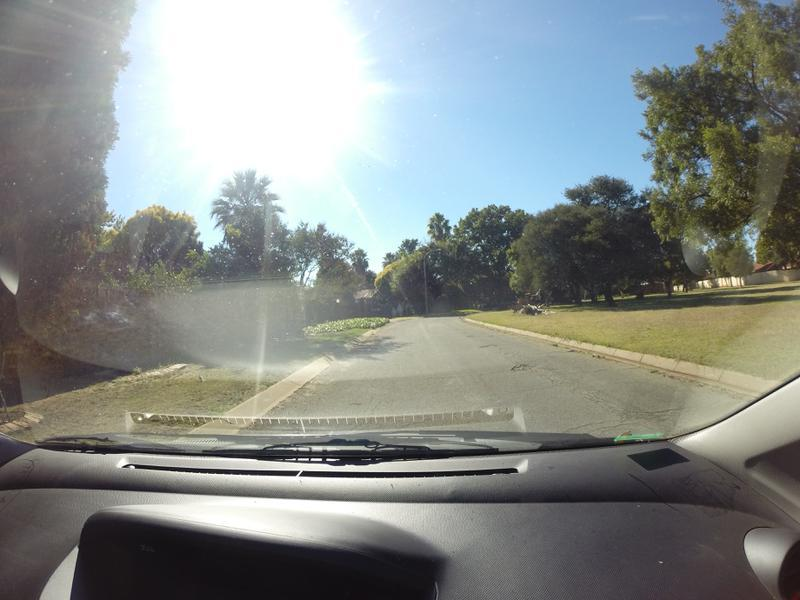pothole: (511, 360, 535, 371), (480, 341, 500, 348)
